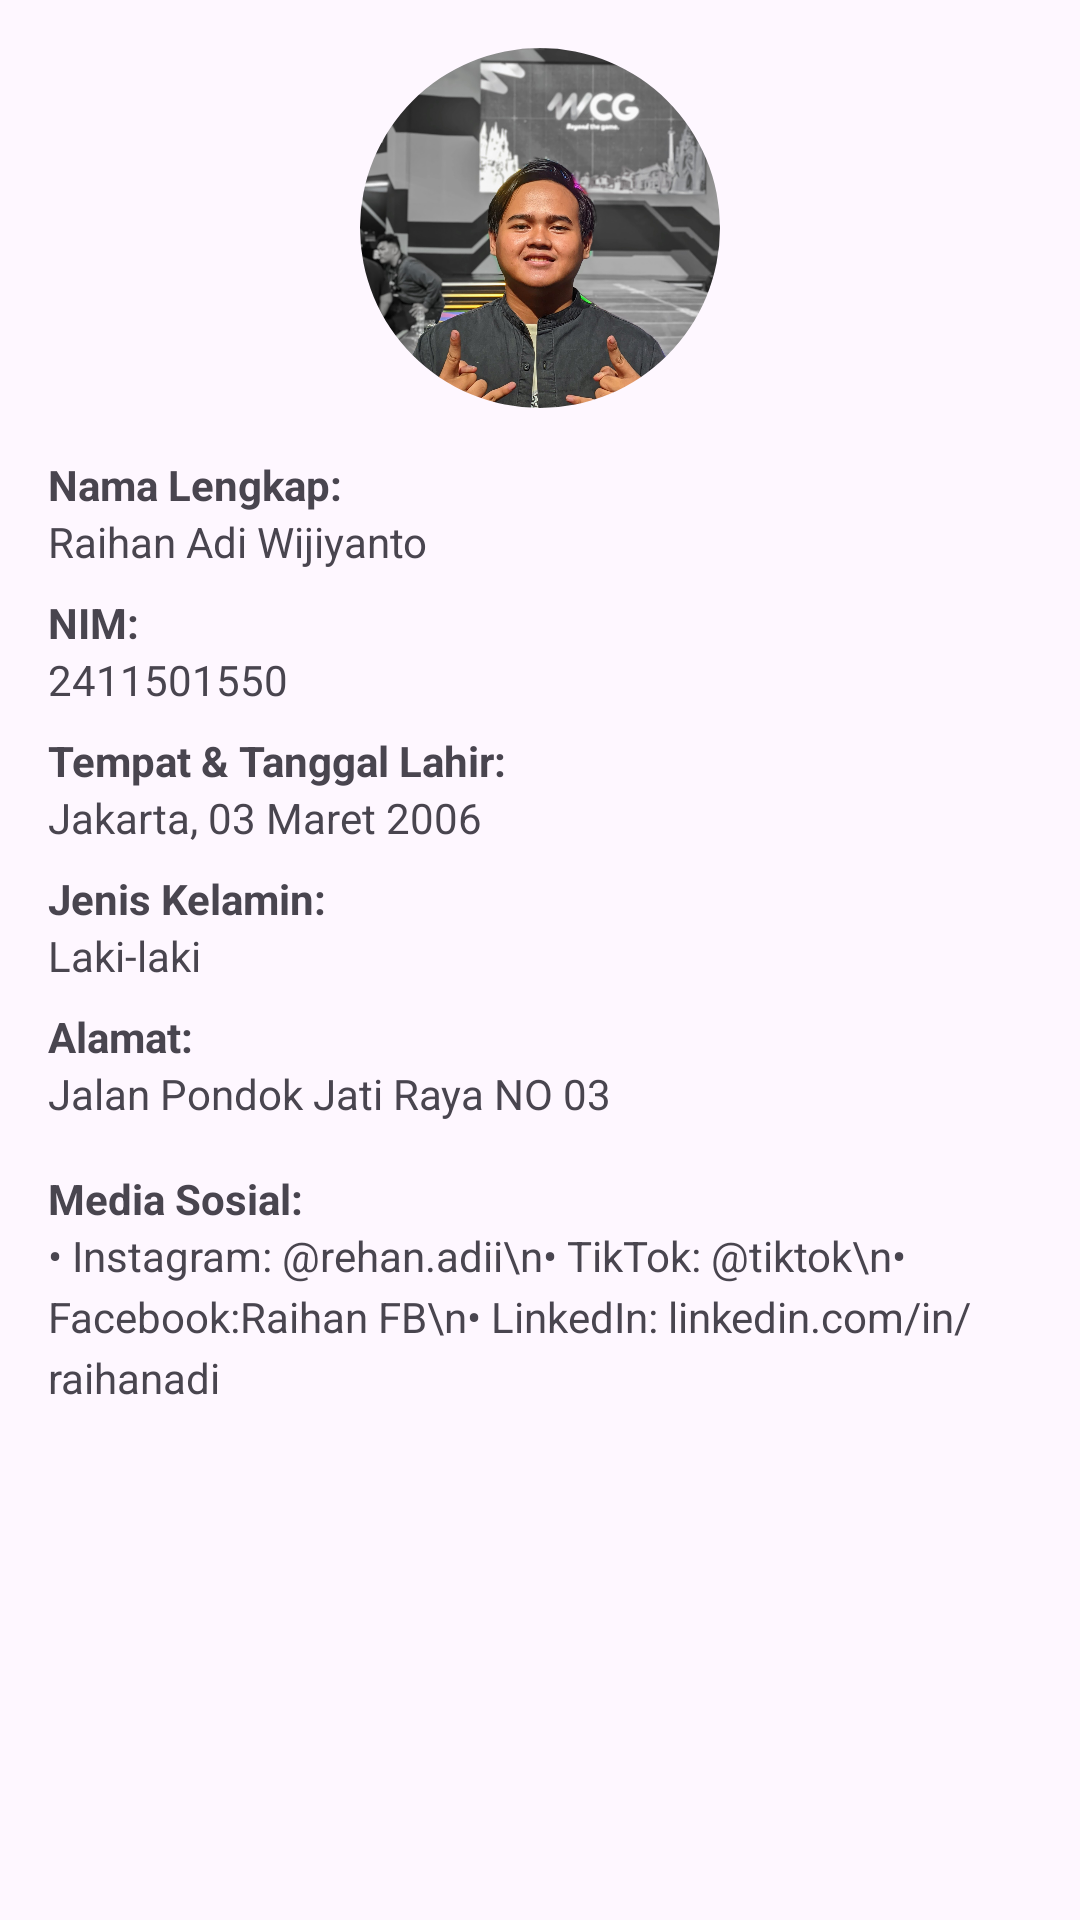

Icon bounding boxes for this 1080x1920 phone screenshot, format box=[x1, y1, x2, y2]:
foto profil: box=[360, 48, 720, 408]
